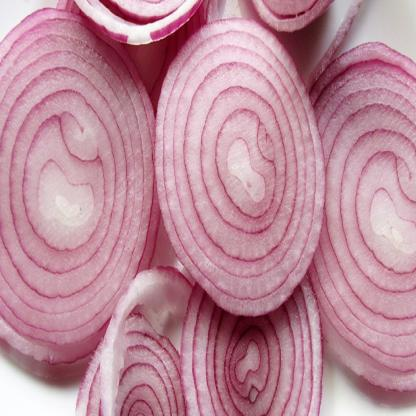onion: (158, 42, 327, 312)
